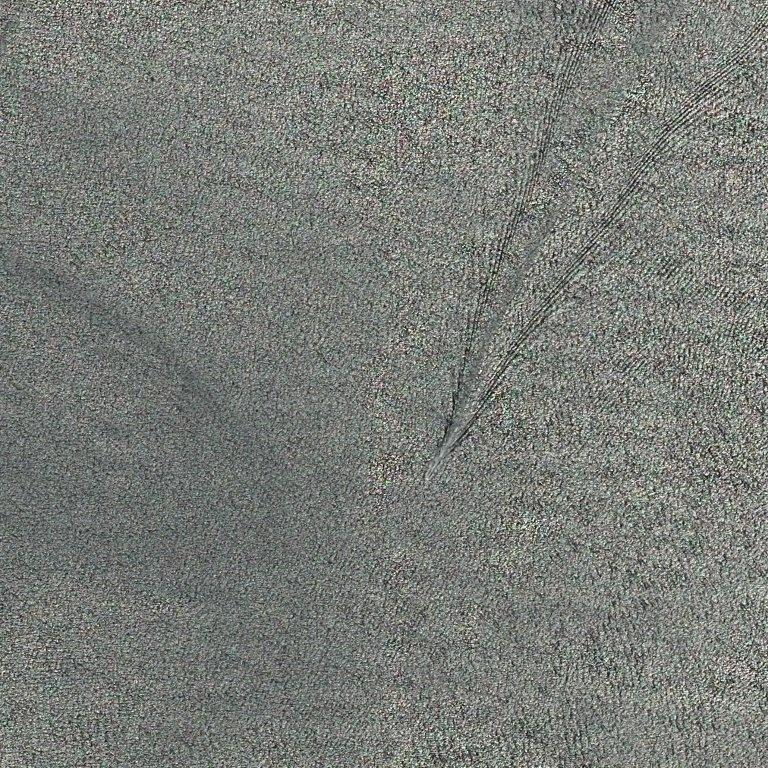ship: (0, 477, 5, 488)
